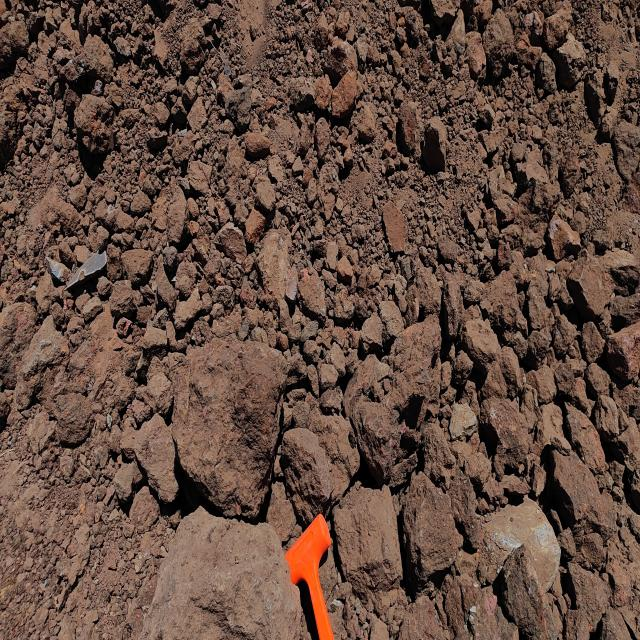Orange_hammer: (284, 512, 335, 639)
